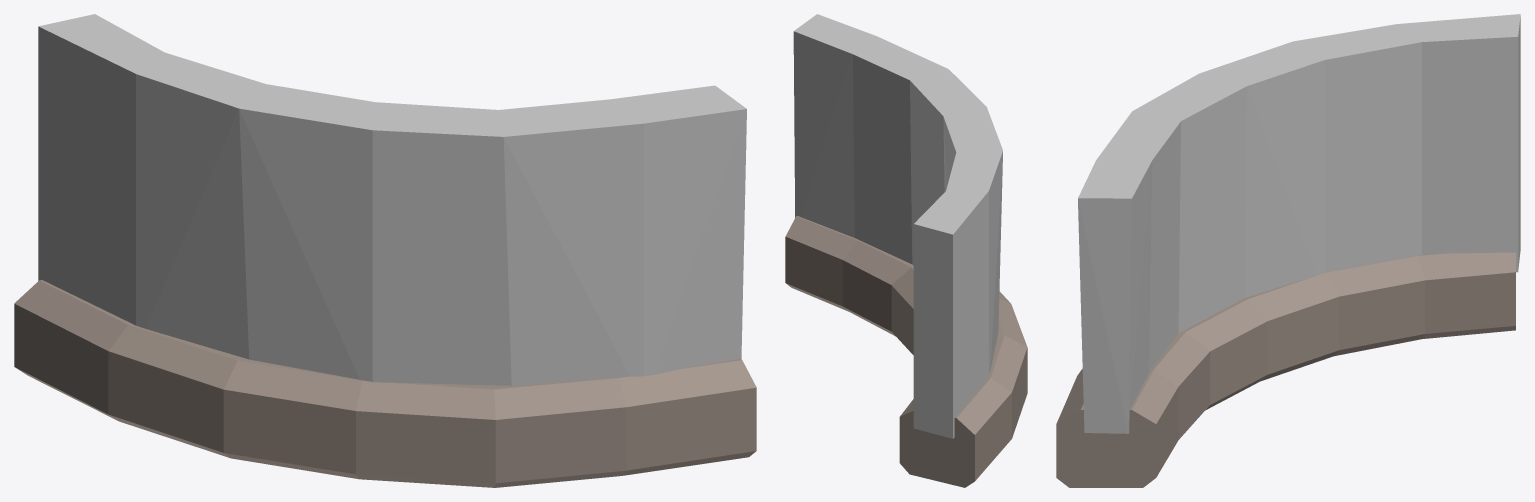
The model's file is SM_Bld_Stairs_Railing_Round_04.fbx.
The picture shows the model from 3 angles, left to right: view 1: azimuth 30°, elevation 25°; view 2: azimuth 150°, elevation 25°; view 3: azimuth 270°, elevation 25°; orthographic projection. The views are drawn at different scales.
Parts seen in each view (by area): view 1: SM_Bld_Stairs_Railing_Round_04_ConvexHulls, SM_Bld_Stairs_Railing_Round_04; view 2: SM_Bld_Stairs_Railing_Round_04_ConvexHulls, SM_Bld_Stairs_Railing_Round_04; view 3: SM_Bld_Stairs_Railing_Round_04_ConvexHulls, SM_Bld_Stairs_Railing_Round_04.
Boxes of the visible parts, x1,y1,x2,y2 form: SM_Bld_Stairs_Railing_Round_04_ConvexHulls: [38, 14, 746, 385]; SM_Bld_Stairs_Railing_Round_04: [14, 280, 756, 487]; SM_Bld_Stairs_Railing_Round_04_ConvexHulls: [793, 14, 1002, 438]; SM_Bld_Stairs_Railing_Round_04: [785, 216, 1027, 487]; SM_Bld_Stairs_Railing_Round_04_ConvexHulls: [1078, 14, 1520, 433]; SM_Bld_Stairs_Railing_Round_04: [1056, 252, 1515, 487].
Size of the model in its own units: 141 by 142 by 97.9.
2 materials, 1 textured.
